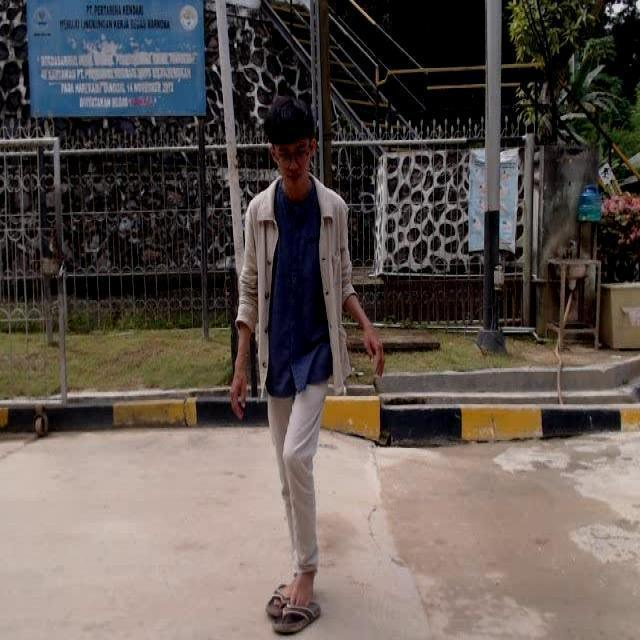no_vest: (238, 167, 365, 409)
